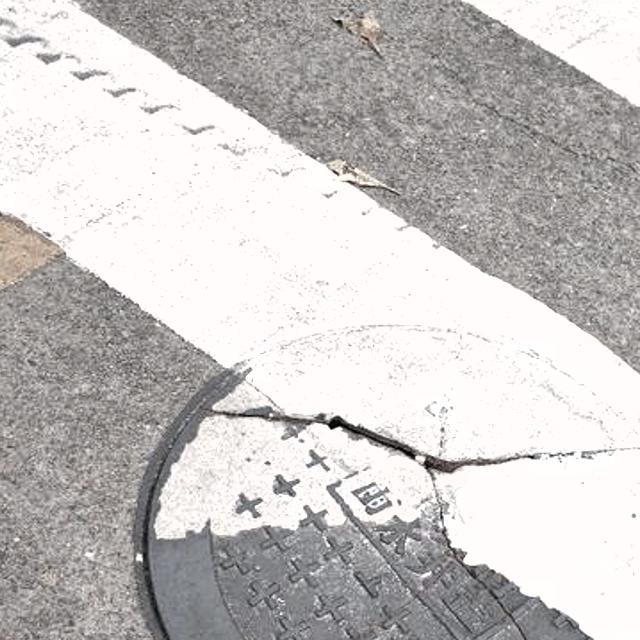broke: (100, 293, 640, 640)
